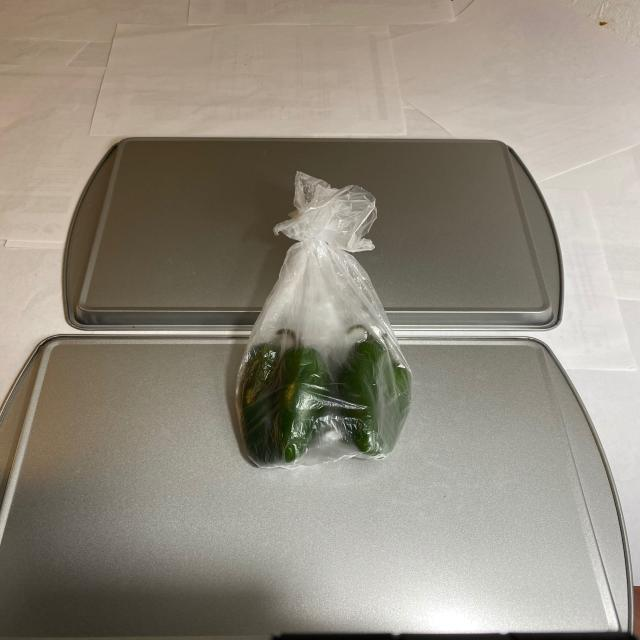chilli: (226, 309, 420, 469)
